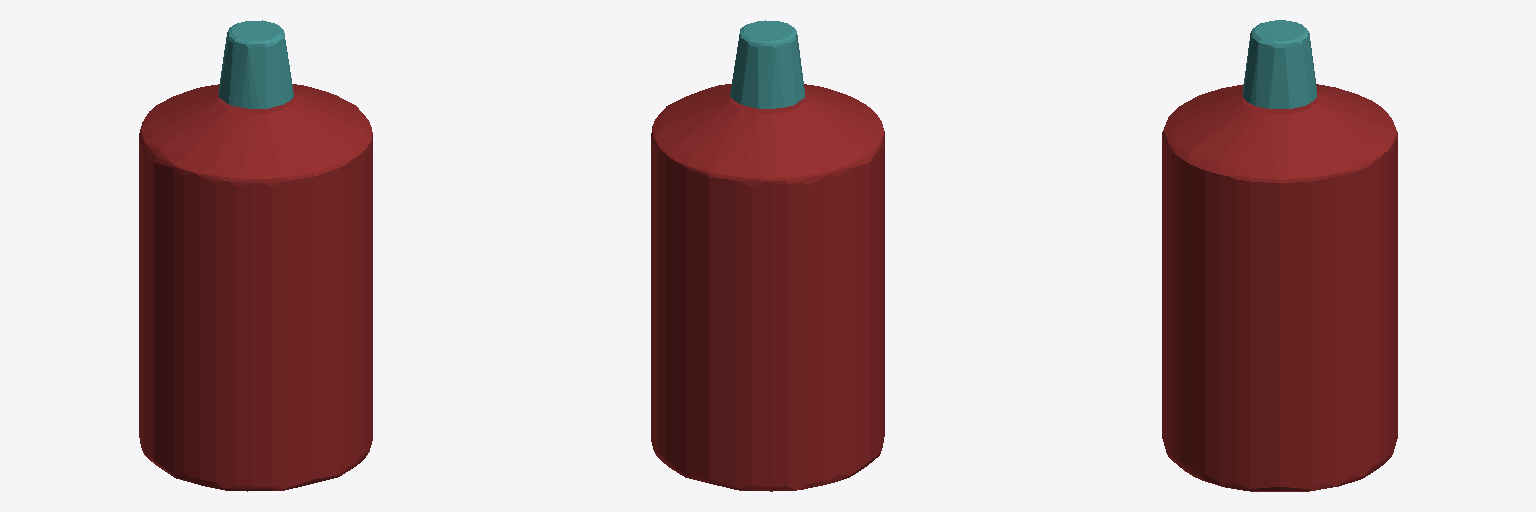
URDF robot description (root):
<robot name="root">
  <link name="bottle_body">
    <inertial>
      <origin xyz="0 0 0" rpy="0 0 0"/>
    </inertial>
    <mass value="1.00E-02"/>
    <visual>
      <origin xyz="0 0 0" rpy="0 0 0"/>
      <geometry>
        <mesh filename="core-bottle-e593aa021f3fa324530647fc03dd20dc-coacd_convex_piece_1.obj" scale="1.0000E-01 1.0000E-01 1.0000E-01"/>
      </geometry>
      <material name="">
        <color rgba="6.00E-01 2.00E-01 2.00E-01 1"/>
      </material>
    </visual>
    <collision>
      <origin xyz="0 0 0" rpy="0 0 0"/>
      <geometry>
        <mesh filename="core-bottle-e593aa021f3fa324530647fc03dd20dc-coacd_convex_piece_1.obj" scale="1.0000E-01 1.0000E-01 1.0000E-01"/>
      </geometry>
    </collision>
  </link>
  <link name="bottle_cap">
    <origin xyz="0 0 0.002" rpy="0 0 0"/>
    <mass value="1.00E-02"/>
    <visual>
      <origin xyz="0 0 0.002" rpy="0 0 0"/>
      <geometry>
        <mesh filename="core-bottle-e593aa021f3fa324530647fc03dd20dc-coacd_convex_piece_0.obj" scale="1.0000E-01 1.0000E-01 1.0000E-01"/>
      </geometry>
      <material name="">
        <color rgba="3.00E-01 6.00E-01 6.00E-01 1"/>
      </material>
    </visual>
    <collision>
      <origin xyz="0 0 0.002" rpy="0 0 0"/>
      <geometry>
        <mesh filename="core-bottle-e593aa021f3fa324530647fc03dd20dc-coacd_convex_piece_0.obj" scale="1.0000E-01 1.0000E-01 1.0000E-01"/>
      </geometry>
    </collision>
  </link>
  <joint name="bottle_cap_joint" type="revolute">
    <origin xyz="0 0 0" rpy="0 0 0"/>
    <parent link="bottle_body"/>
    <child link="bottle_cap"/>
    <axis xyz="0 0 1"/>
    <limit lower="0.00" upper="6.28"/>
    <dynamics damping="0.05"/>
  </joint>
</robot>

--- Facts derived from the render (not from the file) ---
The picture shows the robot from 3 angles, left to right: view 1: azimuth 30°, elevation 25°; view 2: azimuth 150°, elevation 25°; view 3: azimuth 270°, elevation 25°; orthographic projection.
Model root with 2 links and 1 joints (1 revolute), rooted at bottle_body, posed every joint at zero.
Visible links, largest first — view 1: bottle_body, bottle_cap; view 2: bottle_body, bottle_cap; view 3: bottle_body, bottle_cap.
Boxes of the visible links, box(x1,y1,x2,y2) form: bottle_body: box(139, 84, 372, 491); bottle_cap: box(218, 20, 293, 108); bottle_body: box(651, 84, 884, 491); bottle_cap: box(730, 20, 804, 108); bottle_body: box(1162, 84, 1397, 491); bottle_cap: box(1243, 20, 1316, 108).
Bounding box of the posed robot: 0.092 × 0.092 × 0.1783 m (x, y, z).
2 mesh visuals loaded from 2 distinct referenced files (2 OBJ).